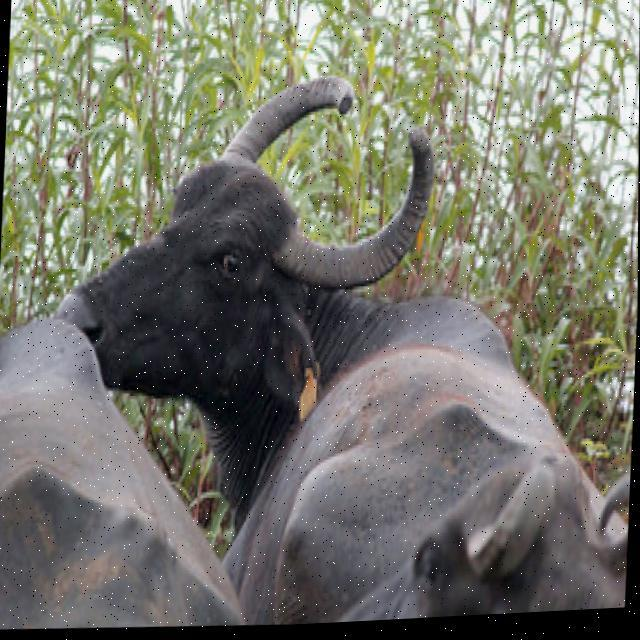Buffalo: (37, 44, 639, 638)
